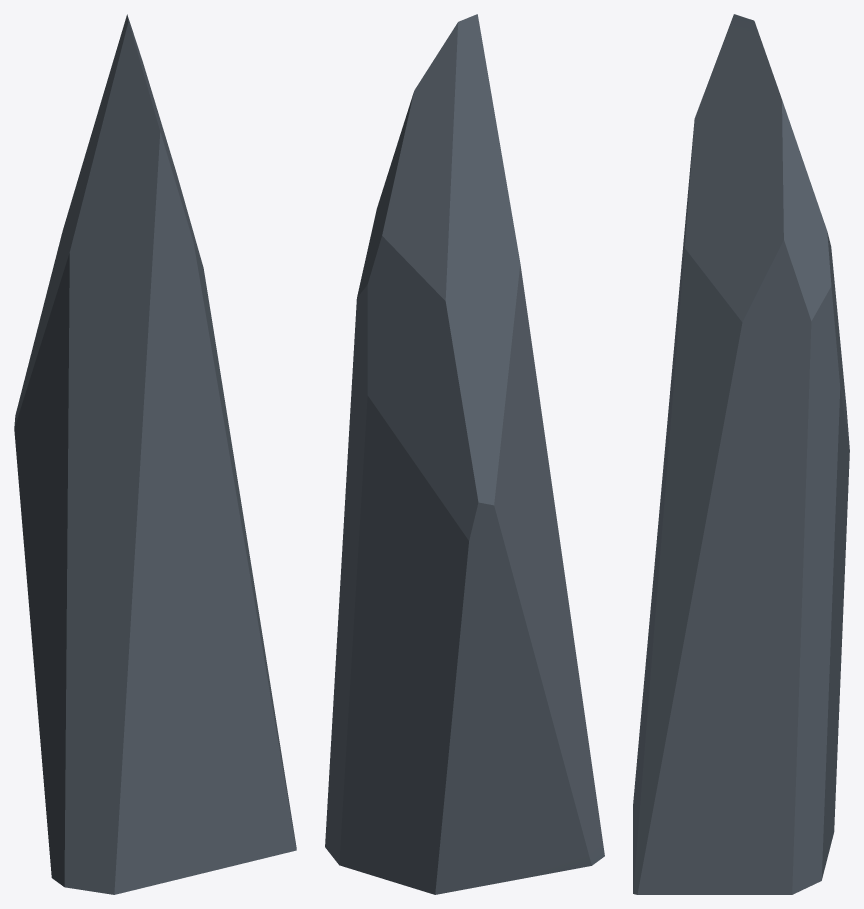
The model's file is Rock_Sharp_m_06.fbx.
3 renders of one model, left to right at view 1: azimuth 30°, elevation 25°; view 2: azimuth 150°, elevation 25°; view 3: azimuth 270°, elevation 25°, orthographic. The views are drawn at different scales.
Parts seen in each view (by area): view 1: Rock_Sharp_m_06; view 2: Rock_Sharp_m_06; view 3: Rock_Sharp_m_06.
Part boxes in pixels (x1,y1,x2,y2): Rock_Sharp_m_06: [14, 14, 296, 894]; Rock_Sharp_m_06: [325, 14, 604, 894]; Rock_Sharp_m_06: [633, 14, 849, 894].
Size of the model in its own units: 50.01 by 183 by 43.8.
